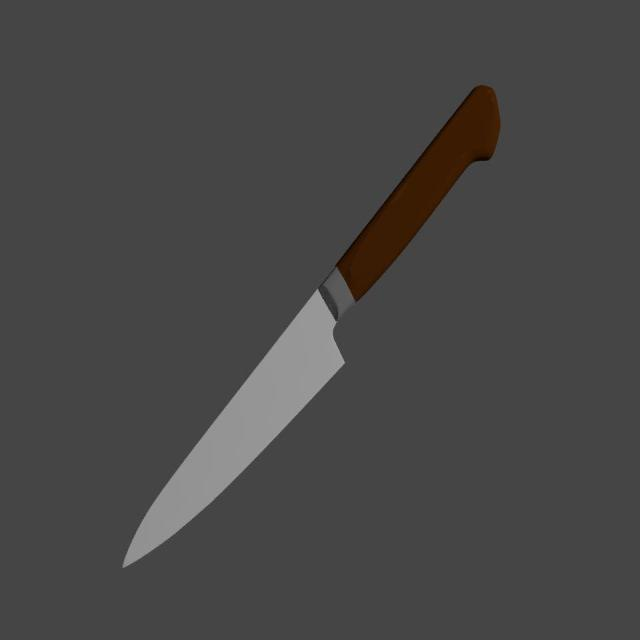knife: (334, 85, 501, 303)
